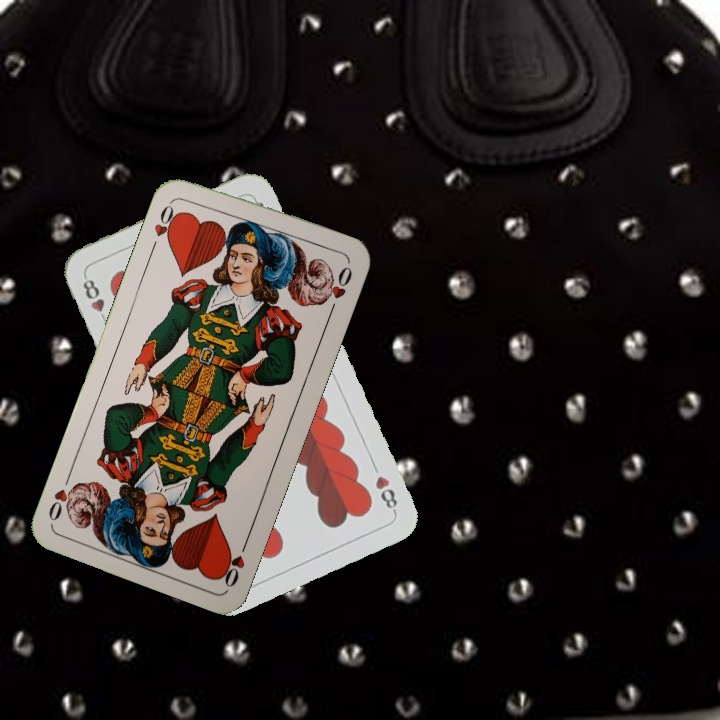H8: (78, 271, 111, 327), (371, 471, 400, 516)
HO: (216, 533, 252, 590), (147, 196, 183, 252)
